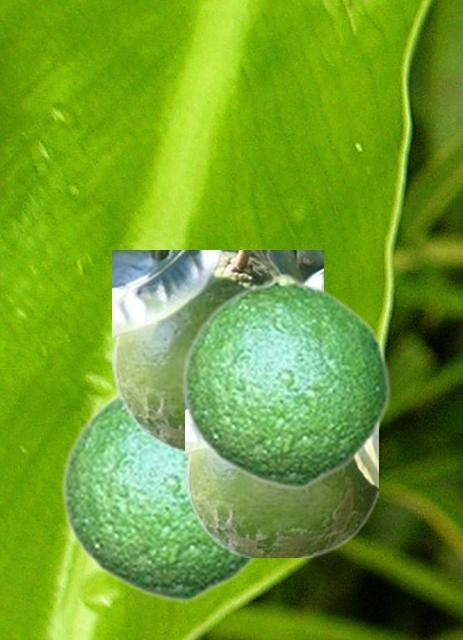dalandan: (180, 272, 390, 489), (59, 393, 262, 602), (112, 250, 322, 449), (185, 414, 377, 556)
